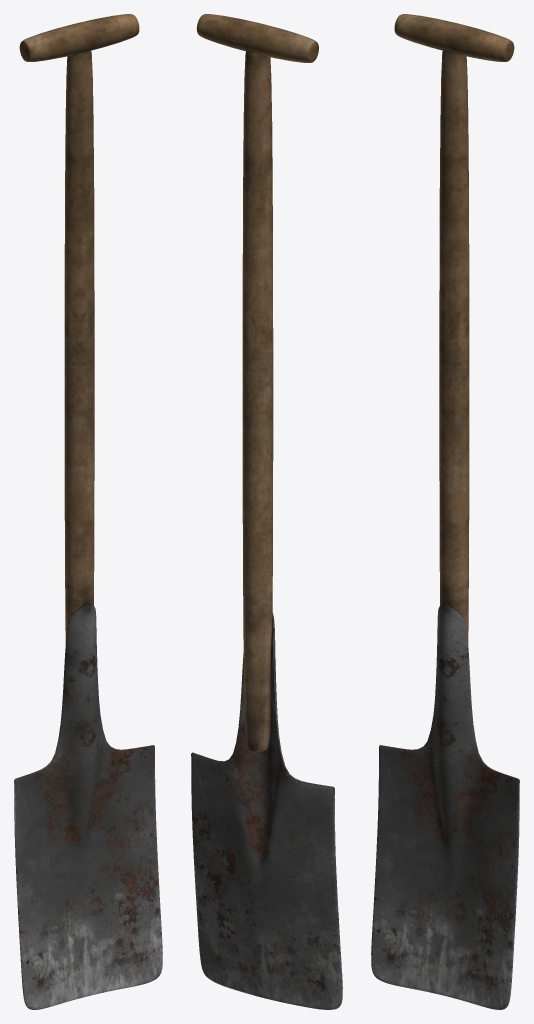
Rendered from rusted_spade_01.glb.
3 renders of one model, left to right at view 1: azimuth 30°, elevation 25°; view 2: azimuth 150°, elevation 25°; view 3: azimuth 330°, elevation 25°, orthographic. The views are drawn at different scales.
Parts seen in each view (by area): view 1: rusted_spade_01; view 2: rusted_spade_01; view 3: rusted_spade_01.
Boxes of the visible parts, <box> form: rusted_spade_01: <box>14,14,162,1009</box>; rusted_spade_01: <box>191,14,342,1009</box>; rusted_spade_01: <box>371,14,519,1009</box>.
Size of the model in its own units: 0.1681 by 1.1 by 0.0456.
1 material, 1 textured.
